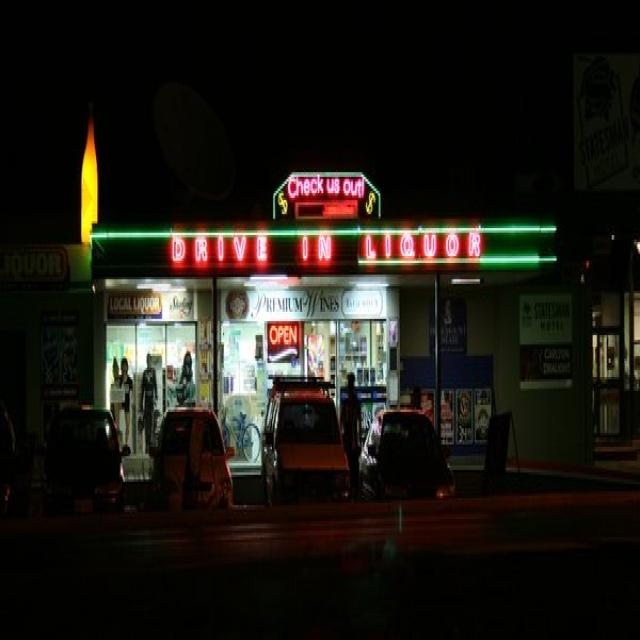Bicycle: (218, 380, 267, 470)
People: (336, 358, 363, 500), (165, 351, 212, 412), (137, 347, 158, 465), (104, 343, 130, 438), (119, 341, 138, 459)
car: (29, 392, 134, 578), (259, 367, 344, 542), (149, 395, 236, 563), (366, 393, 469, 513)
